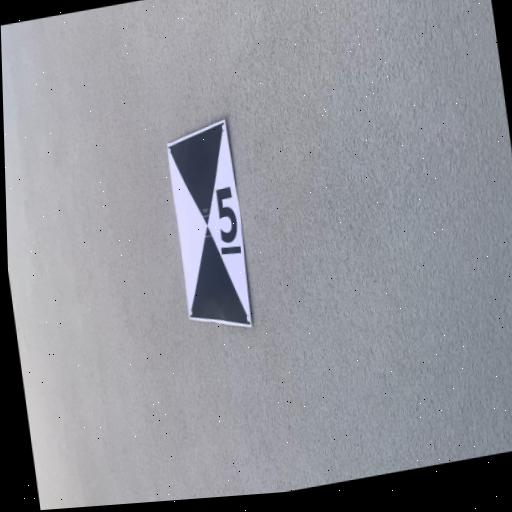target5: (168, 122, 254, 329)
